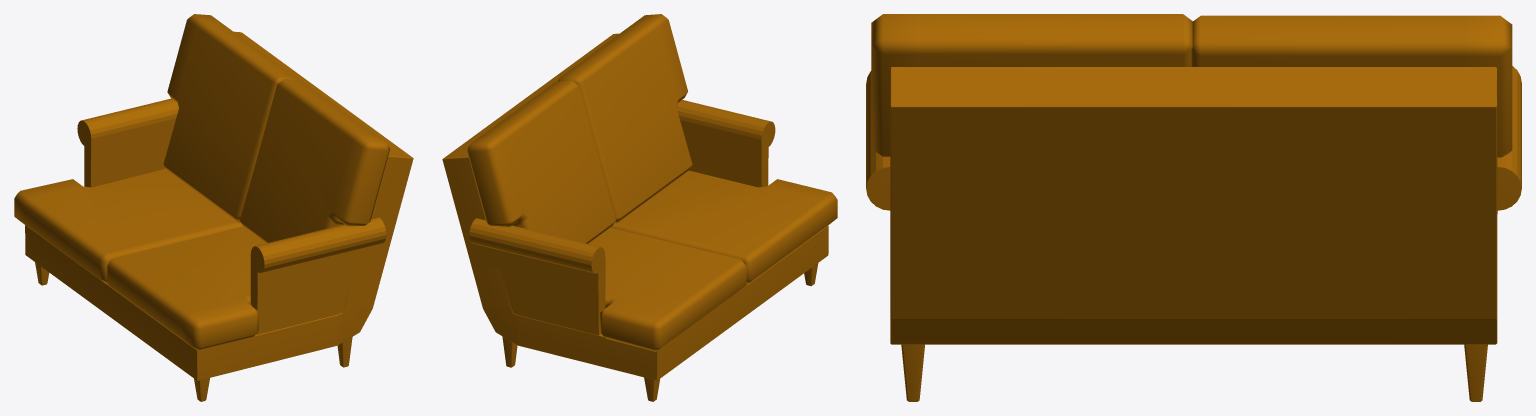
File: Sofa v2.fbx
3 views of the same model, side by side, from view 1: azimuth 30°, elevation 25°; view 2: azimuth 150°, elevation 25°; view 3: azimuth 270°, elevation 25° (orthographic). The views are drawn at different scales.
Visible parts, largest first — view 1: Sofa_8_low, Sofa_5_low, Sofa_11_low, Sofa_2_low, Sofa_1_low, Sofa_3_low, Sofa_9_low; view 2: Sofa_5_low, Sofa_8_low, Sofa_11_low, Sofa_1_low, Sofa_2_low, Sofa_9_low, Sofa_3_low; view 3: Sofa_11_low, Sofa_8_low, Sofa_5_low, Sofa_9_low, Sofa_3_low, Sofa_4_low, Sofa_7_low.
Boxes of the visible parts, box(x1,y1,x2,y2) form: Sofa_8_low: box(239, 79, 389, 243); Sofa_5_low: box(163, 14, 297, 223); Sofa_11_low: box(25, 31, 413, 380); Sofa_2_low: box(14, 168, 242, 283); Sofa_1_low: box(107, 226, 265, 350); Sofa_3_low: box(250, 217, 386, 334); Sofa_9_low: box(77, 98, 178, 187); Sofa_5_low: box(467, 80, 615, 243); Sofa_8_low: box(558, 14, 692, 222); Sofa_11_low: box(442, 33, 828, 380); Sofa_1_low: box(611, 170, 837, 284); Sofa_2_low: box(588, 227, 746, 351); Sofa_9_low: box(469, 218, 605, 335); Sofa_3_low: box(676, 100, 775, 187); Sofa_11_low: box(890, 67, 1497, 344); Sofa_8_low: box(871, 14, 1192, 156); Sofa_5_low: box(1191, 15, 1512, 157); Sofa_9_low: box(1497, 66, 1521, 213); Sofa_3_low: box(866, 71, 890, 210); Sofa_4_low: box(1464, 344, 1487, 401); Sofa_7_low: box(901, 344, 924, 401).
Size of the model in its own units: 135 by 131 by 194.
